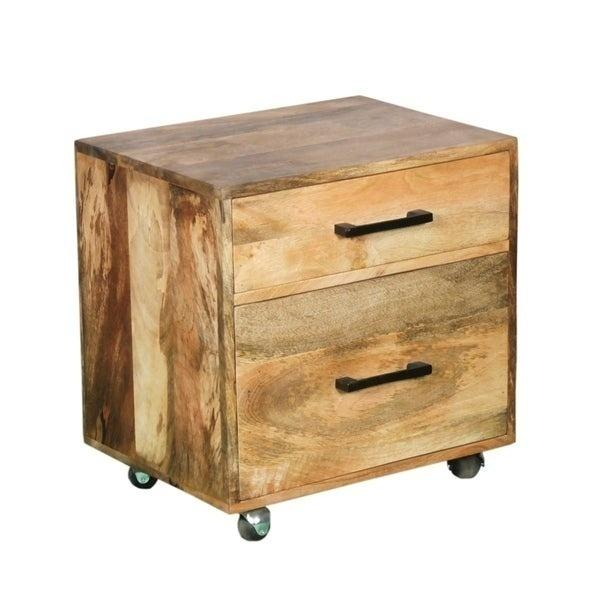cabinet_door: (239, 288, 514, 466), (232, 177, 510, 273)
handle: (333, 204, 437, 242), (334, 358, 435, 397)
